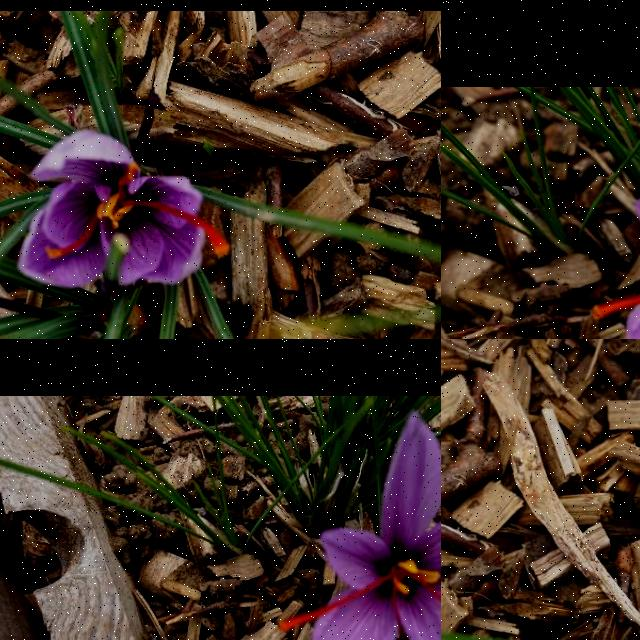flower: (277, 411, 441, 640), (21, 130, 231, 288)
